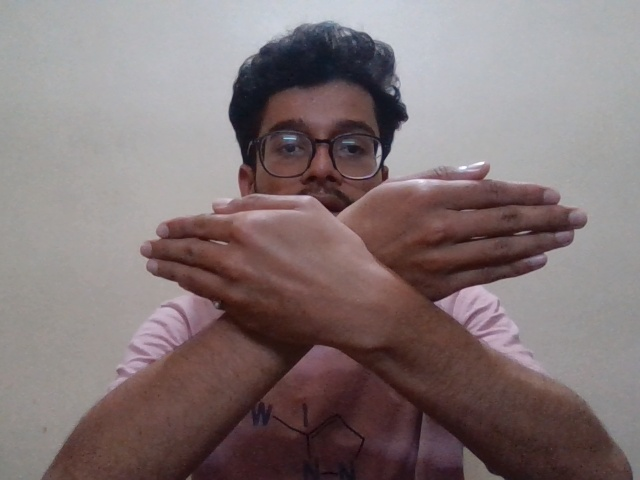feel: (114, 174, 586, 407)
